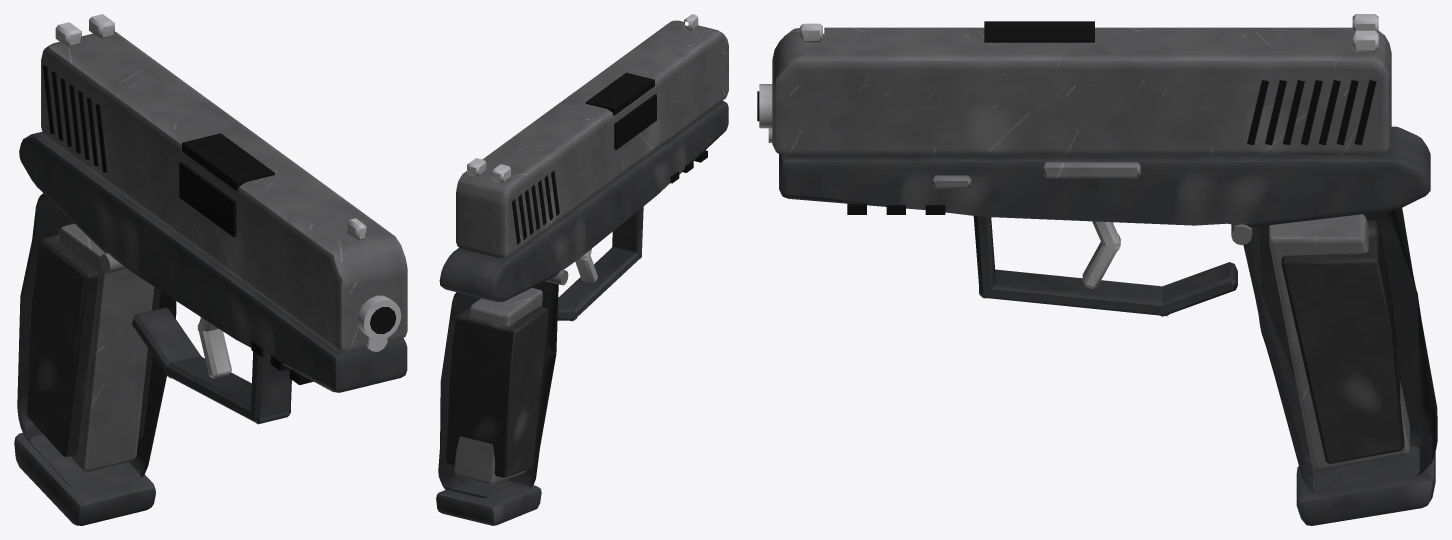
The model's file is classic.glb.
3 views of the same model, side by side, from view 1: azimuth 30°, elevation 25°; view 2: azimuth 150°, elevation 25°; view 3: azimuth 270°, elevation 25° (orthographic). The views are drawn at different scales.
Parts seen in each view (by area): view 1: body, mag; view 2: body, mag; view 3: body, mag.
Part boxes in pixels (<box>): body: <box>17,14,407,487</box>; mag: <box>14,223,155,525</box>; body: <box>438,14,728,498</box>; mag: <box>436,288,542,525</box>; body: <box>757,14,1437,492</box>; mag: <box>1269,214,1435,525</box>.
Size of the model in its own units: 0.0304 by 0.164 by 0.2087.
6 materials, 4 textured.
